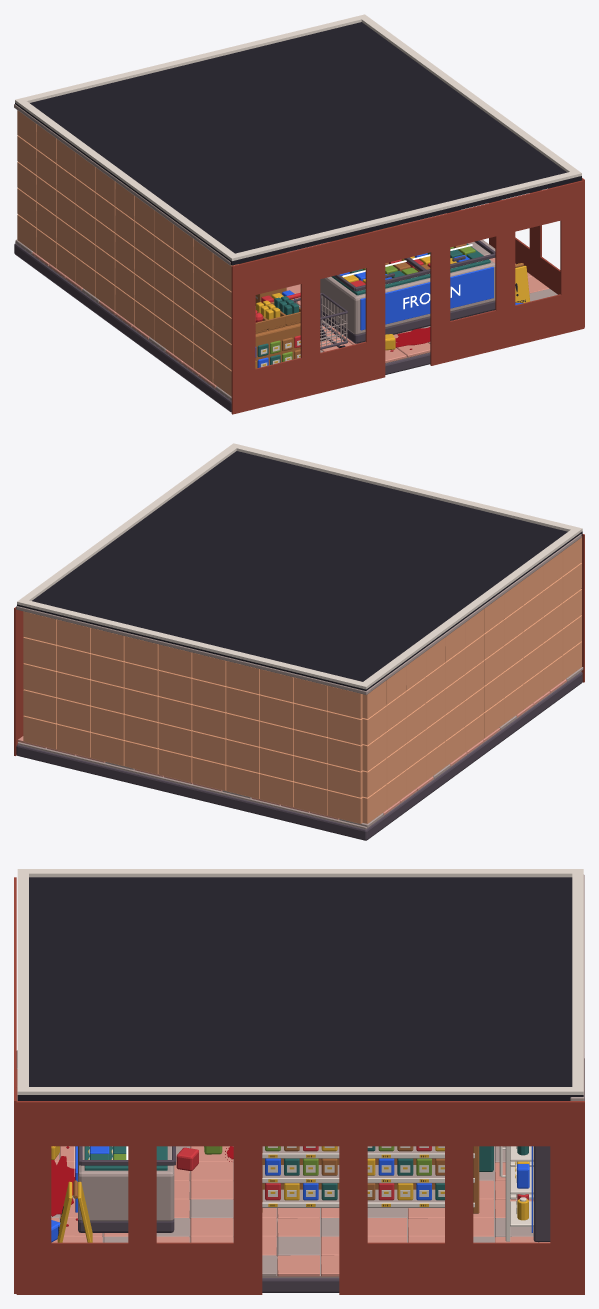
File: bld.supermarket.glb
3 views of the same model, one above another, from view 1: azimuth 30°, elevation 25°; view 2: azimuth 150°, elevation 25°; view 3: azimuth 270°, elevation 25° (orthographic). The views are drawn at different scales.
Parts seen in each view (by area): view 1: roof, interior, door_freezer_00_mesh; view 2: interior, roof; view 3: roof, interior, door_fridge_05_mesh, door_freezer_01_mesh.
Part boxes in pixels (bbox=[...]): roof: bbox=[15, 14, 584, 414]; interior: bbox=[14, 104, 557, 412]; door_freezer_00_mesh: bbox=[334, 258, 426, 291]; interior: bbox=[16, 534, 583, 840]; roof: bbox=[14, 443, 584, 755]; roof: bbox=[14, 869, 584, 1294]; interior: bbox=[16, 874, 584, 1292]; door_fridge_05_mesh: bbox=[499, 1146, 510, 1241]; door_freezer_01_mesh: bbox=[78, 1146, 175, 1165].
Size of the model in its own units: 8.44 by 3.53 by 9.06.
